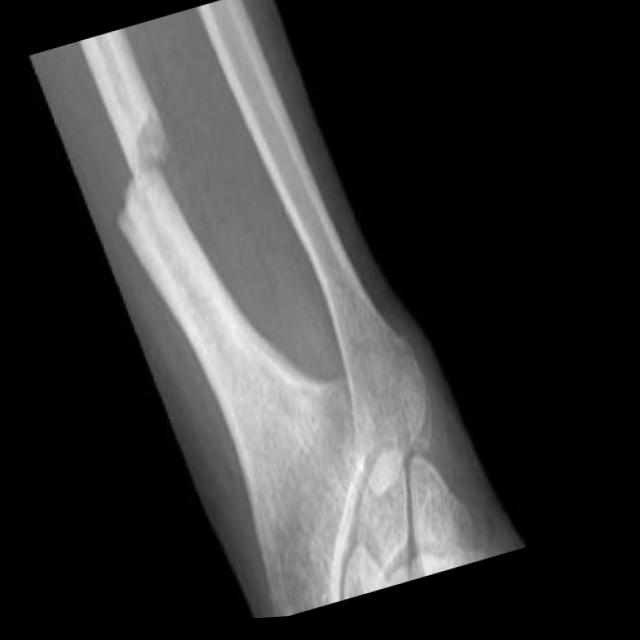fracture: (92, 90, 205, 249)
